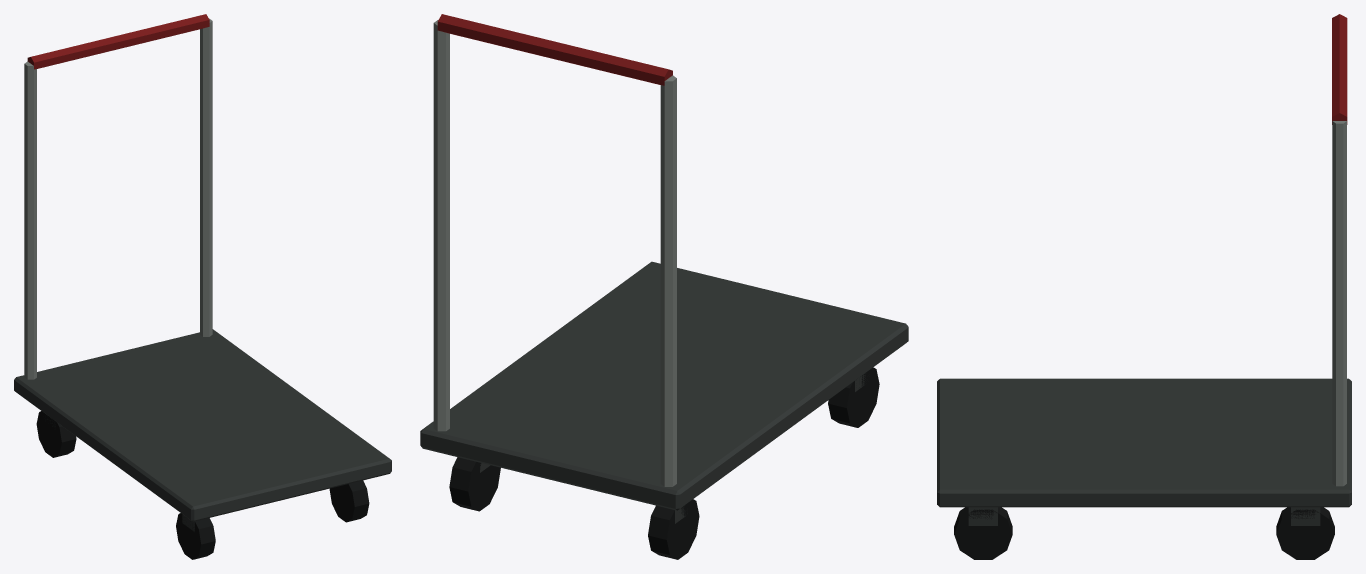
File: xe_day.glb
3 views of the same model, side by side, from view 1: azimuth 30°, elevation 25°; view 2: azimuth 150°, elevation 25°; view 3: azimuth 270°, elevation 25° (orthographic). The views are drawn at different scales.
Visible parts, largest first — view 1: xe_day; view 2: xe_day; view 3: xe_day.
Part boxes in pixels (x1,y1,x2,y2): xe_day: [14, 14, 391, 559]; xe_day: [420, 14, 908, 559]; xe_day: [937, 14, 1351, 559].
Bounding box in the file's own units: 0.55 × 1.02 × 0.85.
